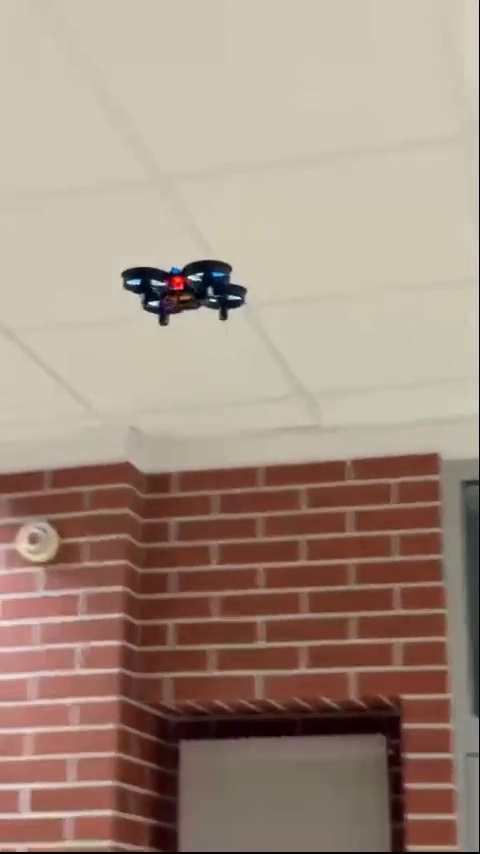drone: (118, 257, 251, 326)
